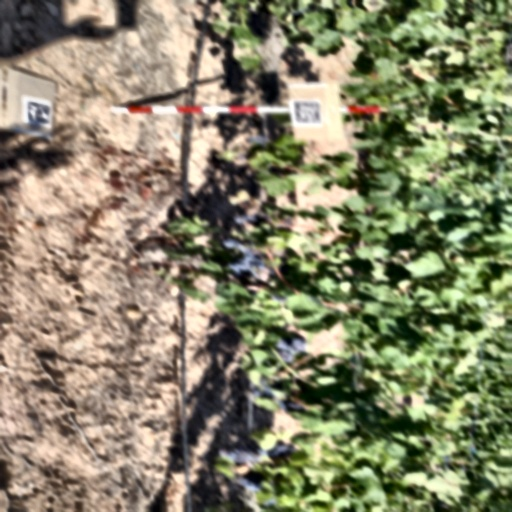QR: (27, 101, 51, 125), (296, 103, 319, 124)
